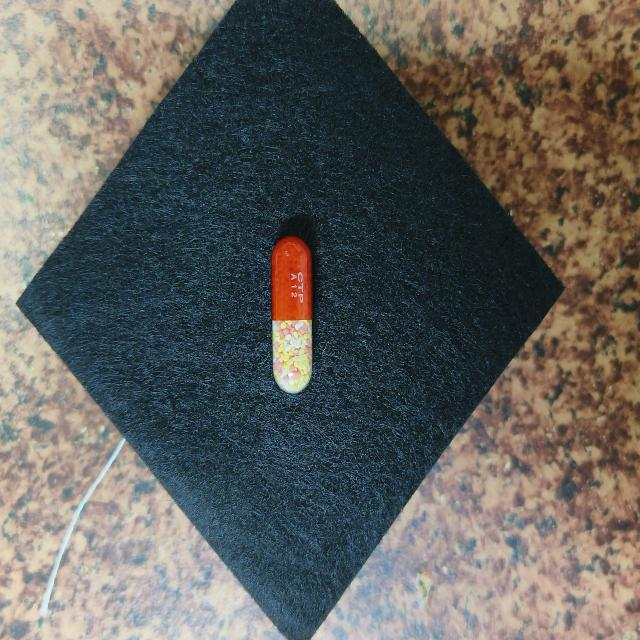Intact Capsule: (271, 236, 312, 393)
